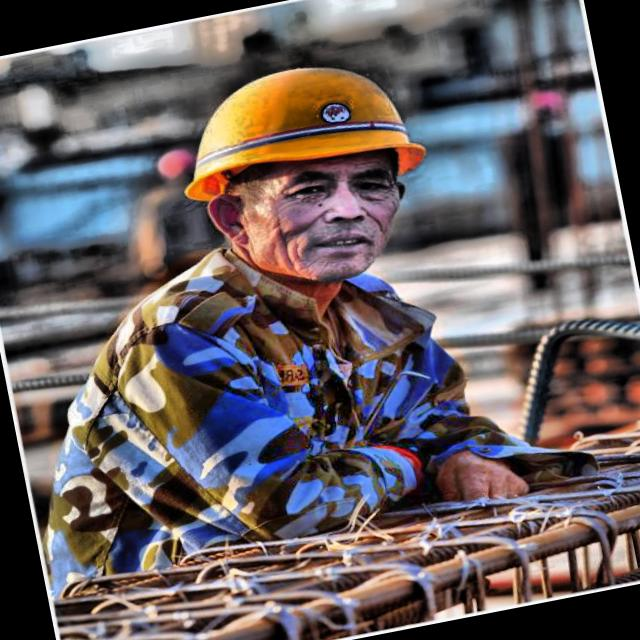helmet: (132, 26, 472, 322)
